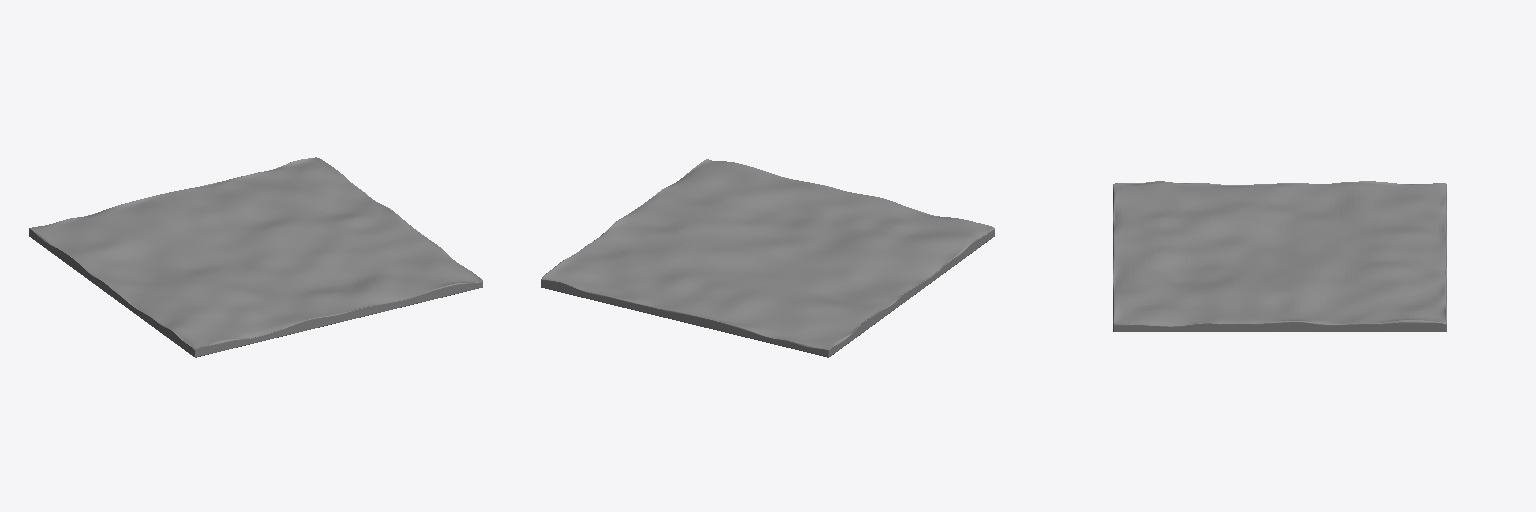
File: RectGrassPatch1.obj
The picture shows the model from 3 angles: view 1: azimuth 30°, elevation 25°; view 2: azimuth 150°, elevation 25°; view 3: azimuth 270°, elevation 25°; orthographic projection.
Visible parts, largest first — view 1: 10450_Rectangular_Grass_Patch_v1; view 2: 10450_Rectangular_Grass_Patch_v1; view 3: 10450_Rectangular_Grass_Patch_v1.
Part boxes in pixels (bbox=[...]): 10450_Rectangular_Grass_Patch_v1: bbox=[29, 157, 482, 357]; 10450_Rectangular_Grass_Patch_v1: bbox=[541, 159, 994, 357]; 10450_Rectangular_Grass_Patch_v1: bbox=[1113, 181, 1446, 331].
Size of the model in its own units: 300 by 11.78 by 300.